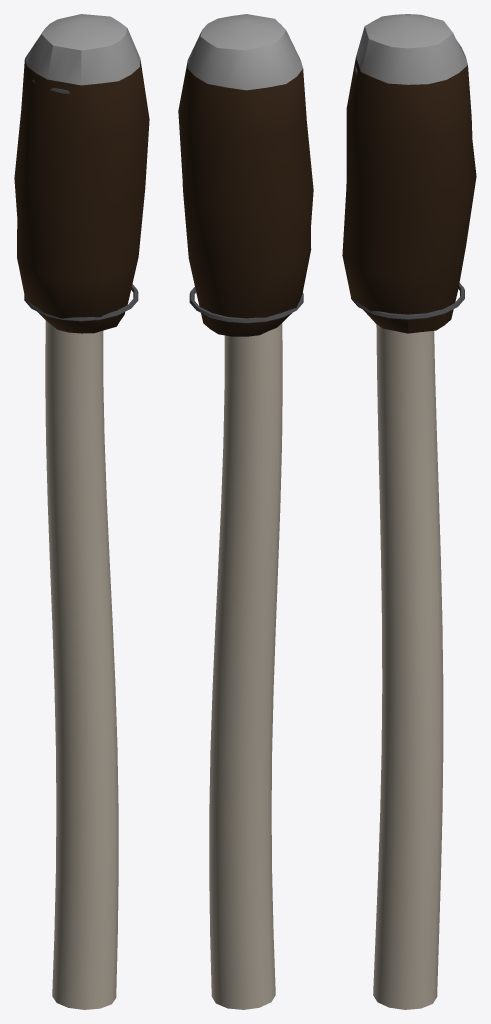
The model's file is torch.glb.
3 renders of one model, left to right at view 1: azimuth 30°, elevation 25°; view 2: azimuth 210°, elevation 25°; view 3: azimuth 330°, elevation 25°, orthographic.
Parts seen in each view (by area): view 1: torch; view 2: torch; view 3: torch.
Part boxes in pixels (bbox=[...]): torch: bbox=[14, 14, 149, 1009]; torch: bbox=[178, 14, 313, 1009]; torch: bbox=[342, 14, 476, 1009].
Bounding box in the file's own units: 0.0715 × 0.5656 × 0.0697.
